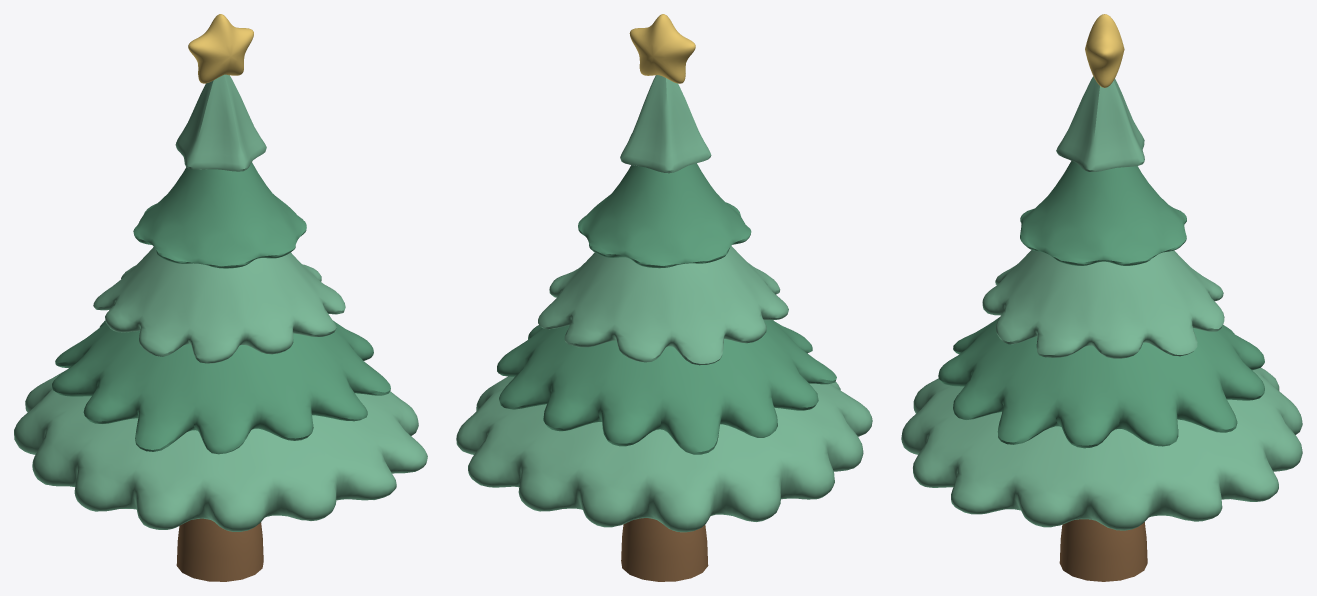
The model's file is christmas-tree-1202.glb.
The picture shows the model from 3 angles, left to right: view 1: azimuth 30°, elevation 25°; view 2: azimuth 150°, elevation 25°; view 3: azimuth 270°, elevation 25°; orthographic projection.
Parts seen in each view (by area): view 1: Zylinder; view 2: Zylinder; view 3: Zylinder.
Part boxes in pixels (x1=…): Zylinder: x1=14, y1=14, x2=427, y2=581; Zylinder: x1=456, y1=14, x2=872, y2=581; Zylinder: x1=901, y1=14, x2=1302, y2=581.
Size of the model in its own units: 0.7333 by 1.1 by 0.7304.
